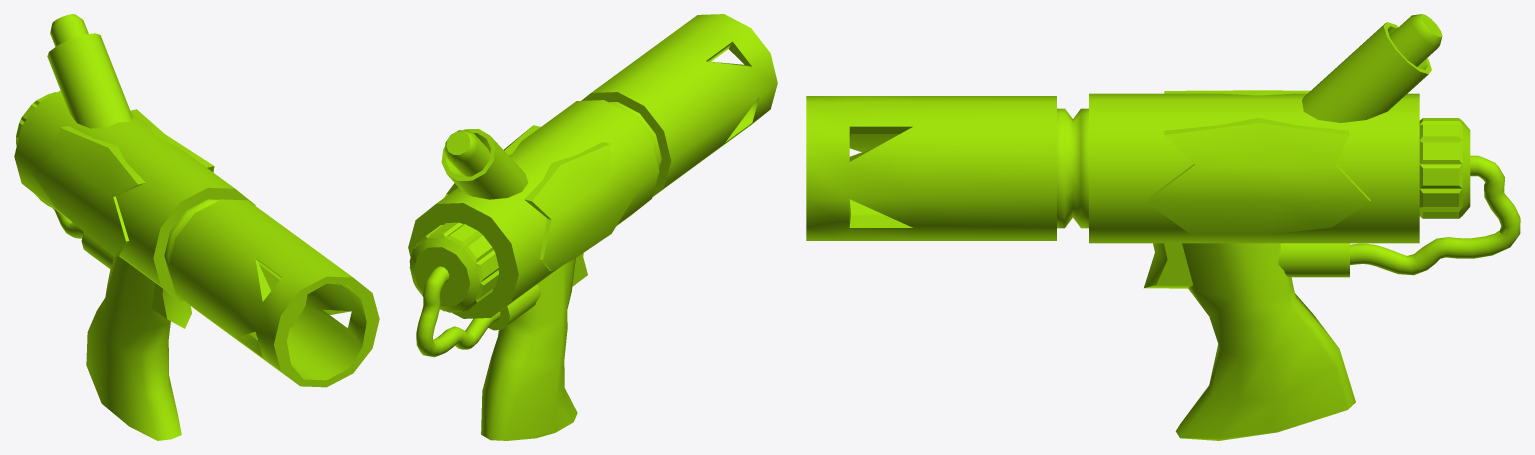
File: object_micowaveGun_nonGrapple 1.fbx
3 views of the same model, side by side, from view 1: azimuth 30°, elevation 25°; view 2: azimuth 150°, elevation 25°; view 3: azimuth 270°, elevation 25° (orthographic). The views are drawn at different scales.
Parts seen in each view (by area): view 1: micorwave_Gun_barrel, micorwave_Gun_handel, micorwave_Gun_nametag, heat_suplie_holder, micorwave_Gun_trigger, mag, micorwave_Gun_cilindar, micorwave_Gun_exuste_pipe; view 2: micorwave_Gun_barrel, micorwave_Gun_handel, micorwave_Gun_nametag, micorwave_Gun_exuste_pipe, heat_suplie_holder, mag, micorwave_Gun_cilindar; view 3: micorwave_Gun_barrel, micorwave_Gun_handel, micorwave_Gun_nametag, heat_suplie_holder, micorwave_Gun_exuste_pipe, micorwave_Gun_cilindar, mag, micorwave_Gun_trigger.
Part boxes in pixels (bbox=[...]): micorwave_Gun_barrel: bbox=[14, 90, 379, 387]; micorwave_Gun_handel: bbox=[86, 256, 181, 440]; micorwave_Gun_nametag: bbox=[31, 109, 214, 256]; heat_suplie_holder: bbox=[47, 33, 132, 128]; micorwave_Gun_trigger: bbox=[151, 283, 191, 328]; mag: bbox=[50, 14, 88, 46]; micorwave_Gun_cilindar: bbox=[81, 232, 113, 268]; micorwave_Gun_exuste_pipe: bbox=[35, 194, 83, 238]; micorwave_Gun_barrel: bbox=[408, 14, 777, 318]; micorwave_Gun_handel: bbox=[481, 258, 577, 440]; micorwave_Gun_nametag: bbox=[444, 125, 638, 271]; micorwave_Gun_exuste_pipe: bbox=[416, 266, 500, 357]; heat_suplie_holder: bbox=[441, 128, 528, 199]; mag: bbox=[444, 130, 490, 176]; micorwave_Gun_cilindar: bbox=[488, 284, 541, 330]; micorwave_Gun_barrel: bbox=[806, 93, 1470, 243]; micorwave_Gun_handel: bbox=[1175, 243, 1355, 440]; micorwave_Gun_nametag: bbox=[1146, 90, 1370, 234]; heat_suplie_holder: bbox=[1302, 22, 1431, 122]; micorwave_Gun_exuste_pipe: bbox=[1350, 155, 1520, 275]; micorwave_Gun_cilindar: bbox=[1278, 243, 1349, 277]; mag: bbox=[1389, 14, 1442, 66]; micorwave_Gun_trigger: bbox=[1144, 243, 1192, 288].
Size of the model in its own units: 6.38 by 18.45 by 28.57.
